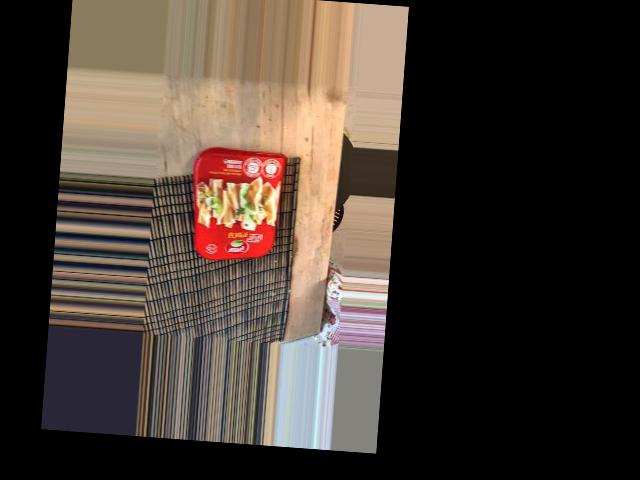cheese: (196, 142, 281, 263)
